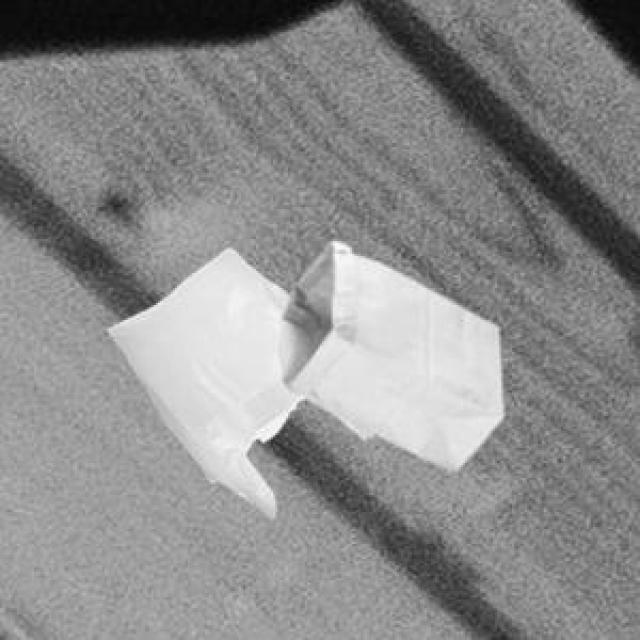paper: (275, 237, 499, 467)
